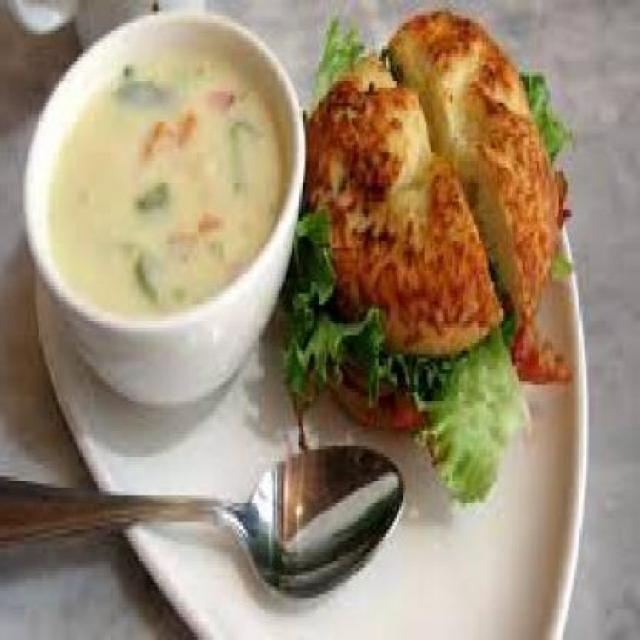clam chowder: (32, 15, 310, 396)
club sandwich: (290, 4, 587, 476)
